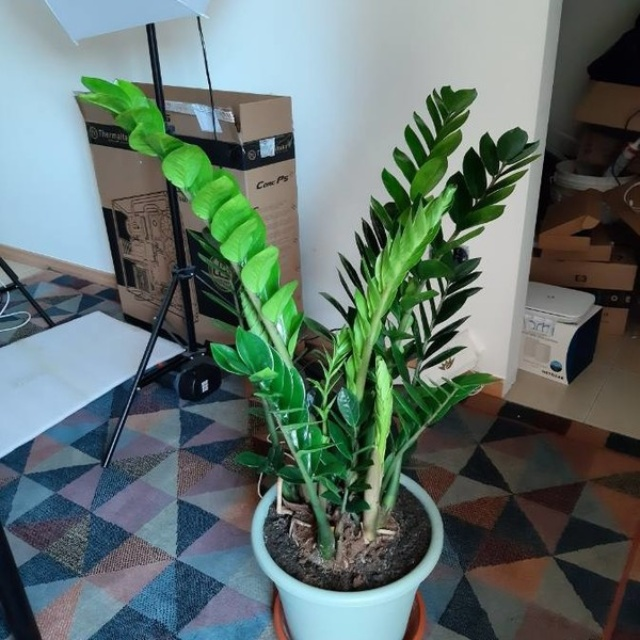obstacle: (65, 68, 540, 625)
